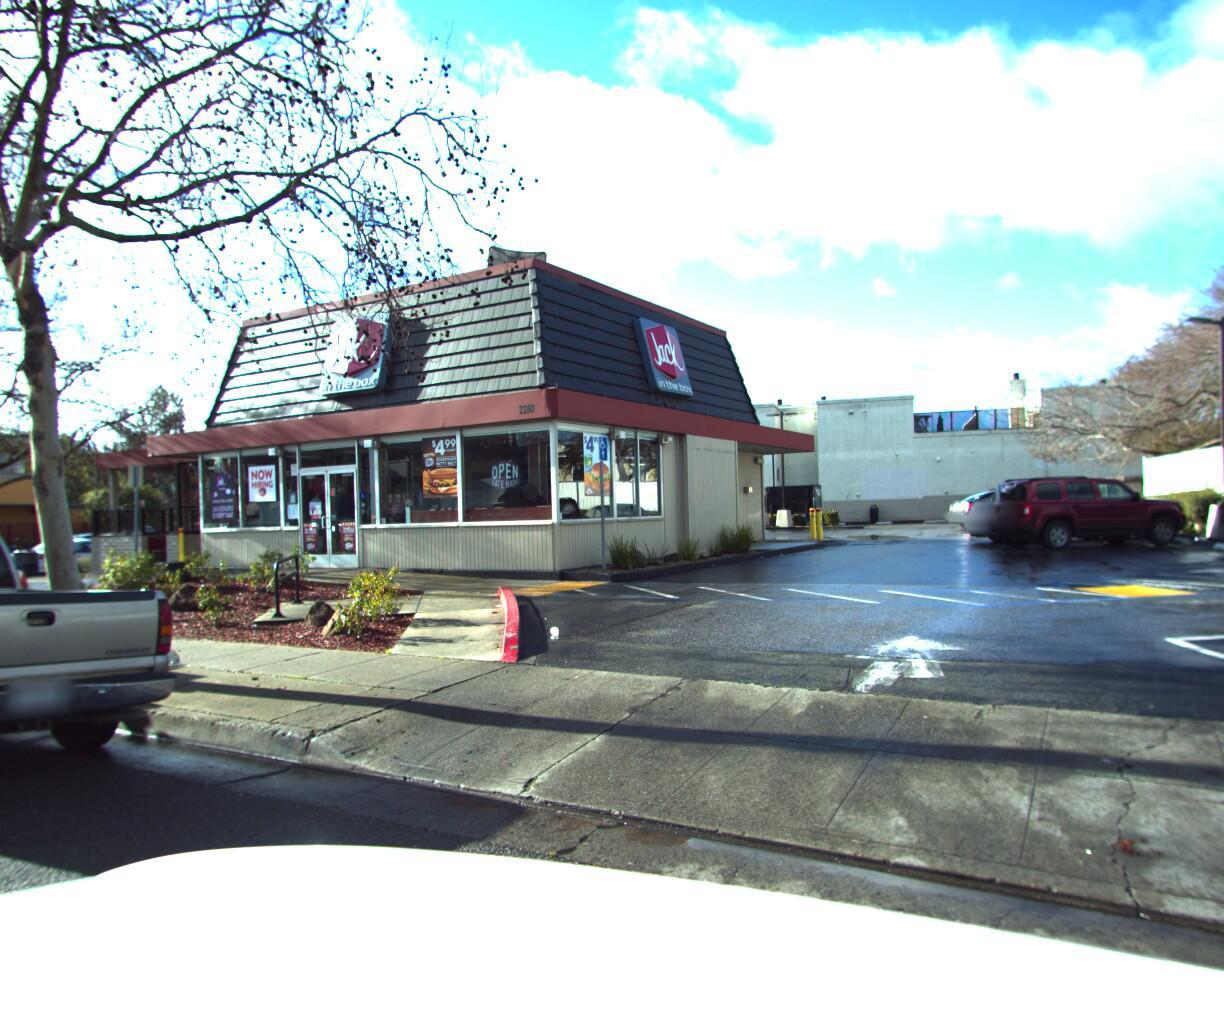car: (0, 492, 200, 866), (977, 465, 1197, 547), (957, 478, 1154, 540), (2, 528, 152, 580)
